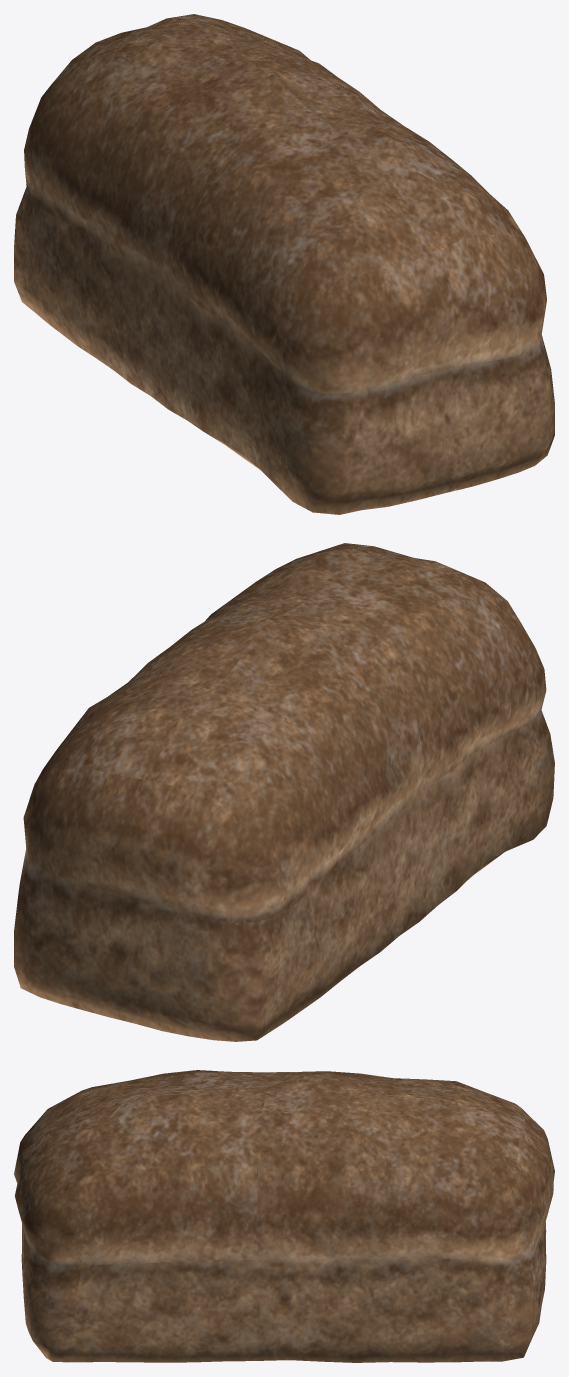
The model's file is Bread_18.obj.
3 renders of one model, top to bottom at view 1: azimuth 30°, elevation 25°; view 2: azimuth 150°, elevation 25°; view 3: azimuth 270°, elevation 25°, orthographic. The views are drawn at different scales.
Visible parts, largest first — view 1: bumpybread_c_mesh; view 2: bumpybread_c_mesh; view 3: bumpybread_c_mesh.
Part boxes in pixels (left/top/right/bottom): bumpybread_c_mesh: left=14, top=14, right=554, bottom=514; bumpybread_c_mesh: left=14, top=543, right=554, bottom=1041; bumpybread_c_mesh: left=14, top=1070, right=554, bottom=1362.
Bounding box in the file's own units: 0.1462 × 0.1586 × 0.3191.
